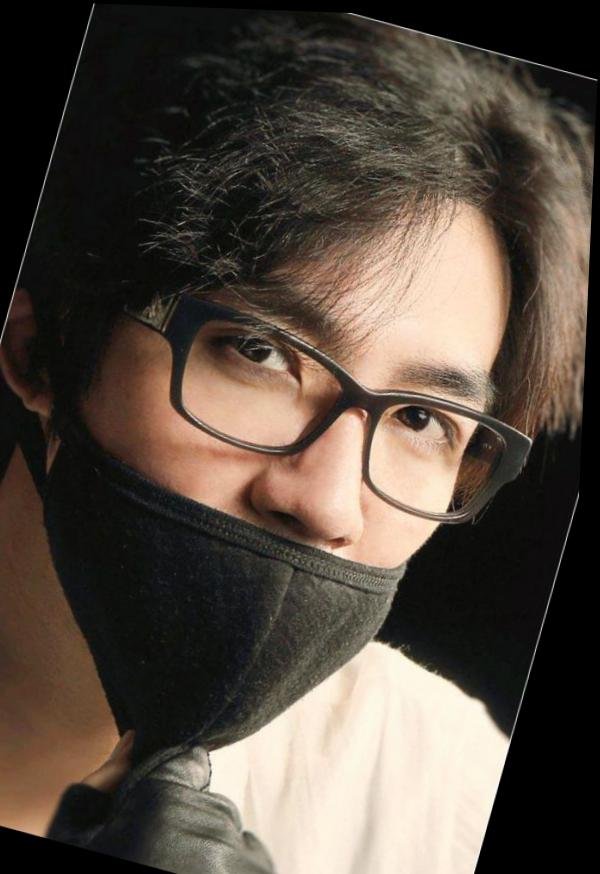WRONG: (1, 231, 538, 778)
